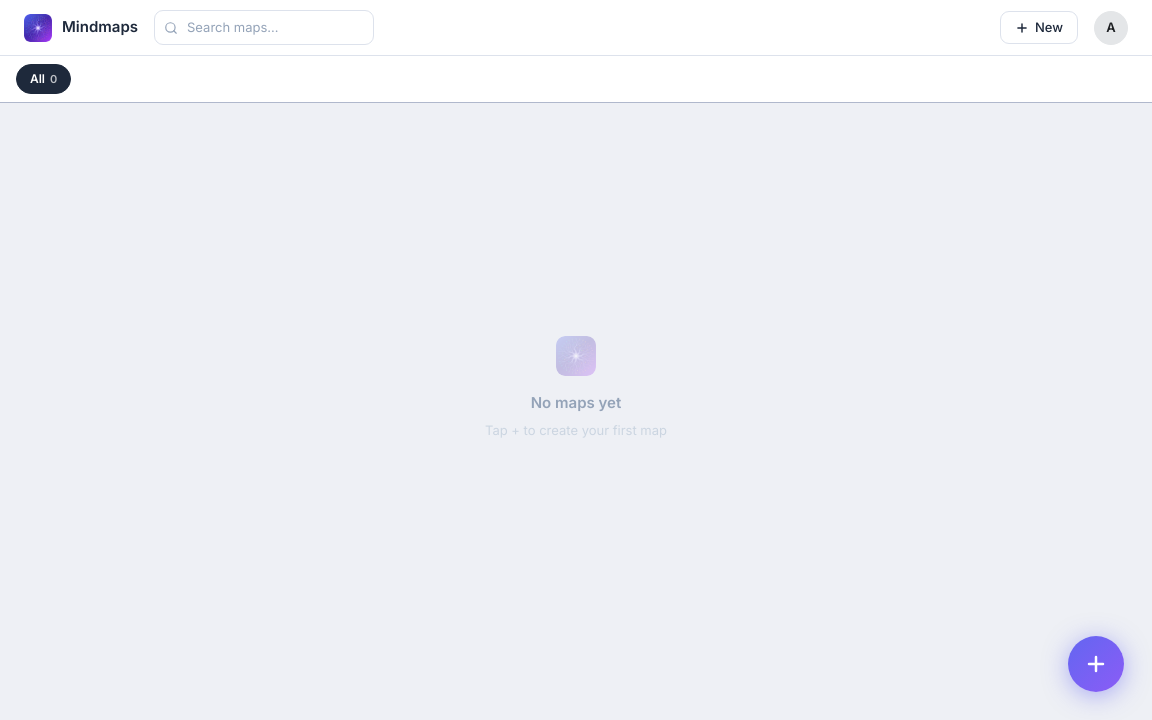
Test: HomePage — create flows › closing the create modal via backdrop click
The image size is (1152, 720).
Click the button titled "New Map" at (1096, 664), box x1=1068 y1=636 x2=1124 y2=692
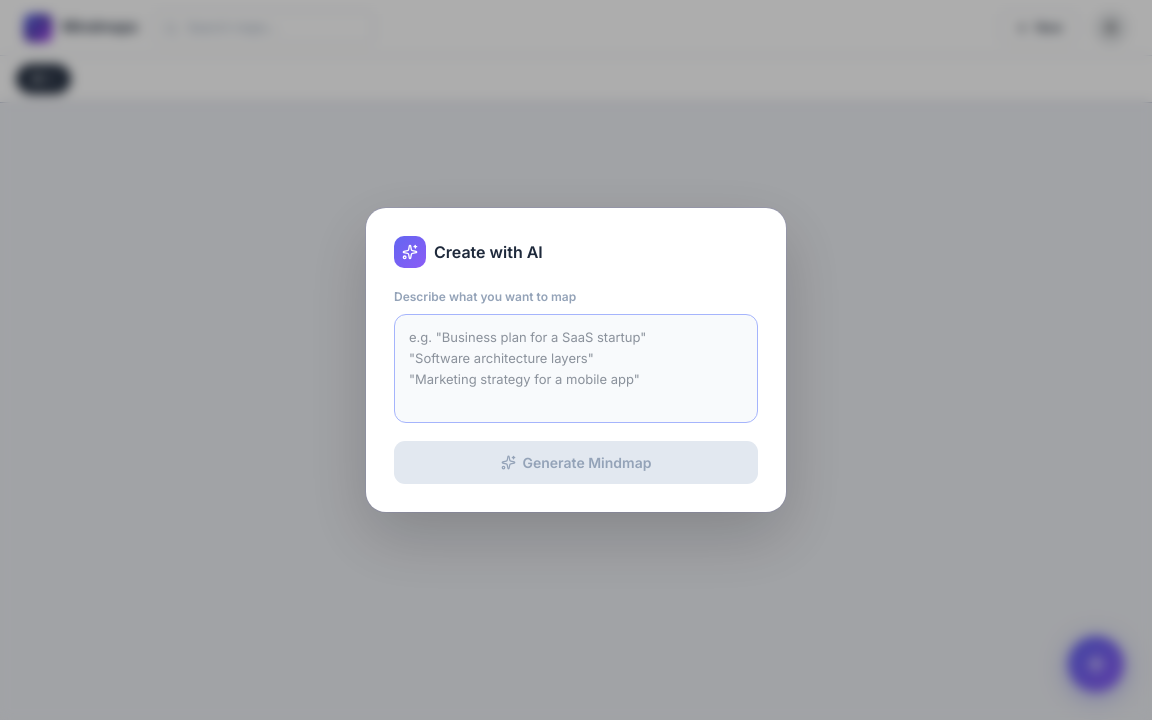
Click the text "Create with AI" at (69, 360), box x1=0 y1=0 x2=1151 y2=719
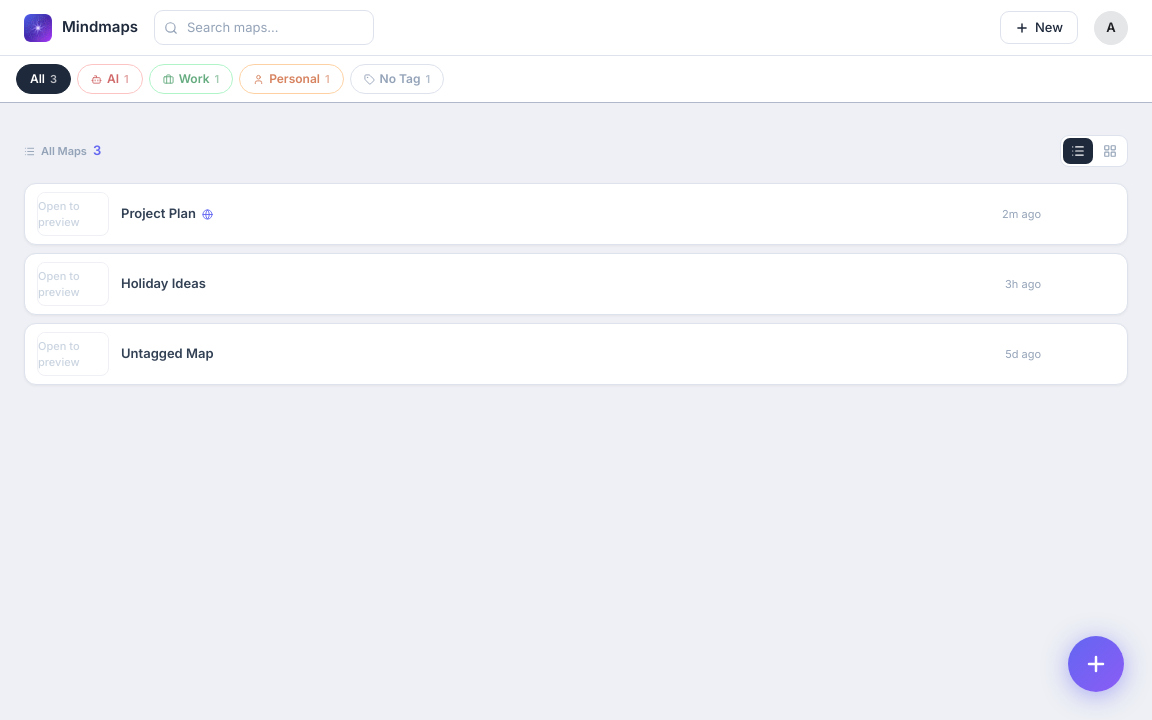
Expected: the heading "Create with AI" is gone
